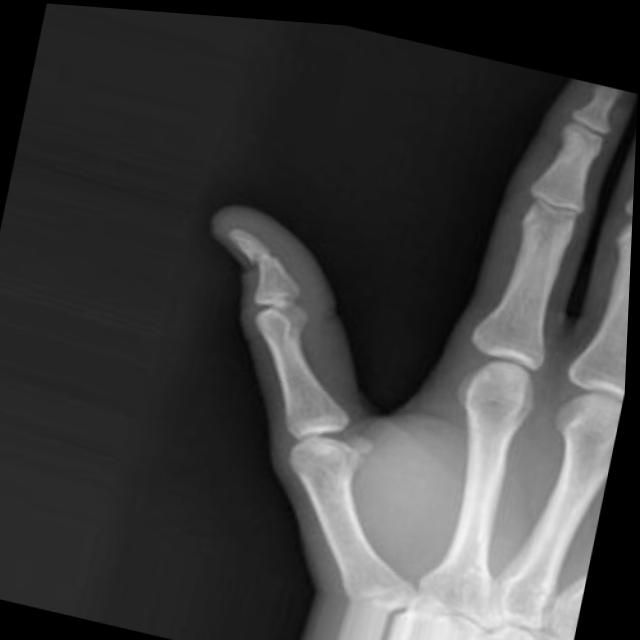fracture: (229, 225, 295, 282)
